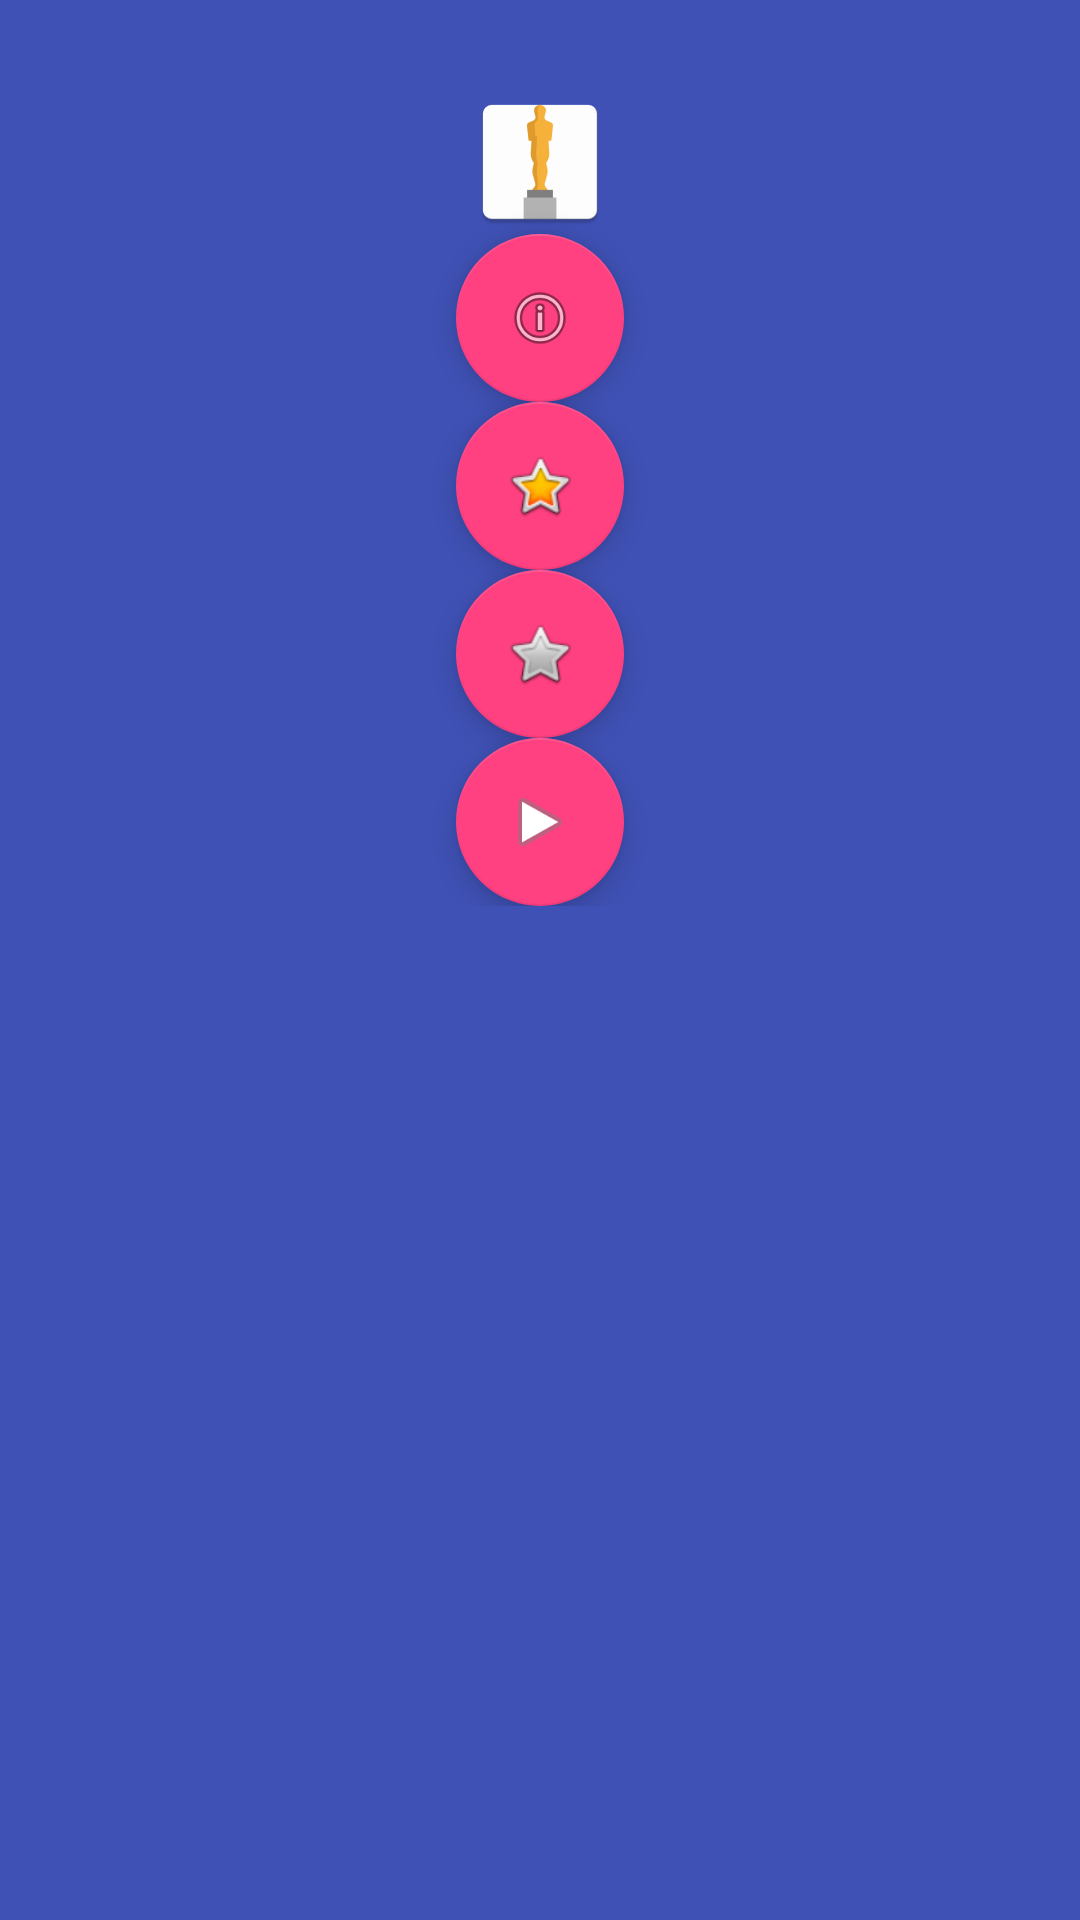

Where icons sit on this 1080px×1920px app screen, as (x1, y1, x2, y2):
info details: (456, 234, 624, 402)
play: (456, 738, 624, 906)
star off: (456, 570, 624, 738)
star on: (456, 402, 624, 570)
